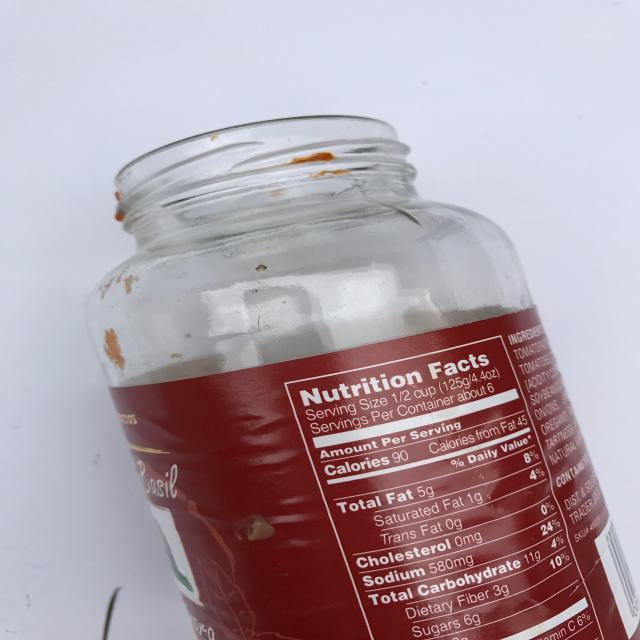glass: (78, 116, 640, 640)
